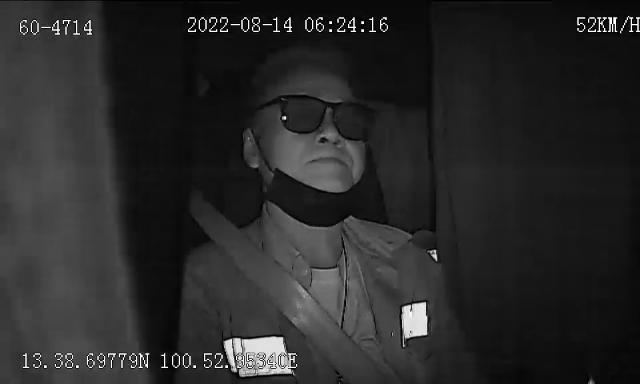Seatbelt: (204, 216, 382, 384)
